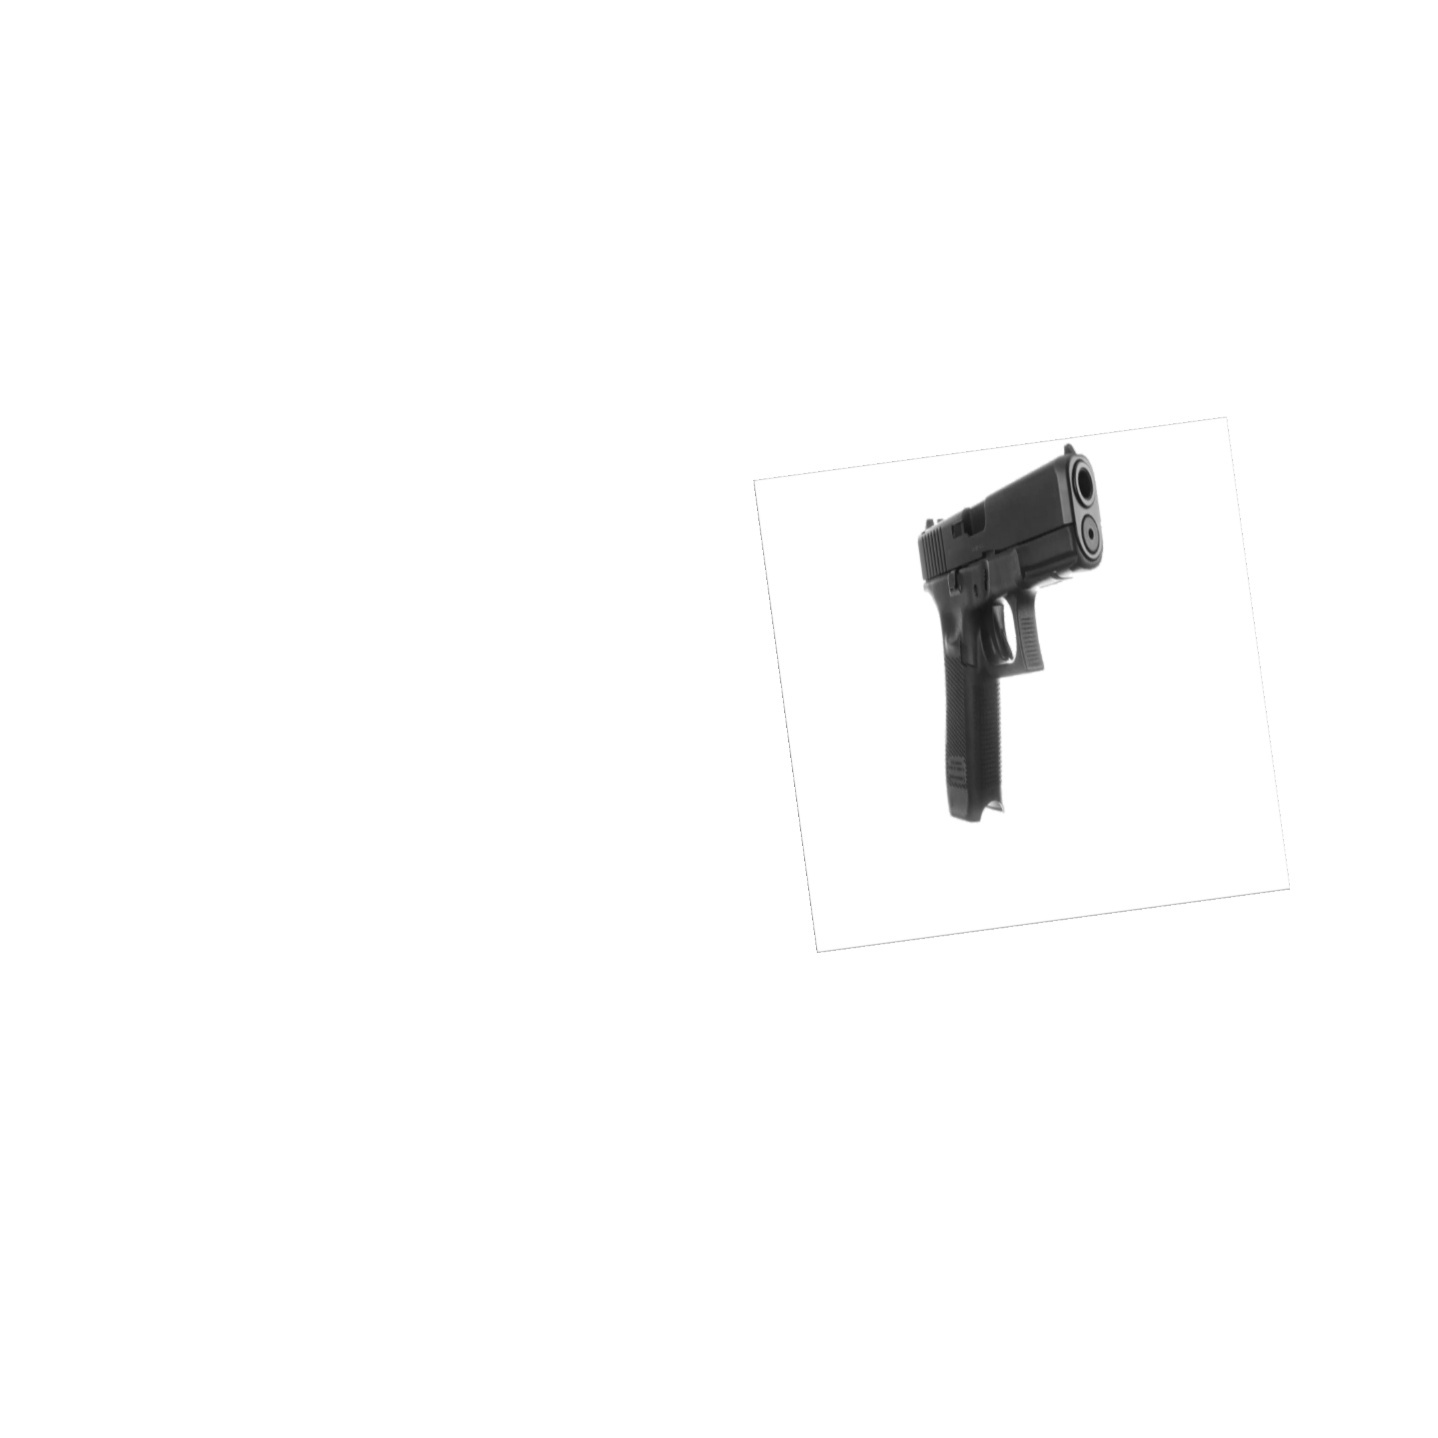gun: (894, 440, 1126, 832)
